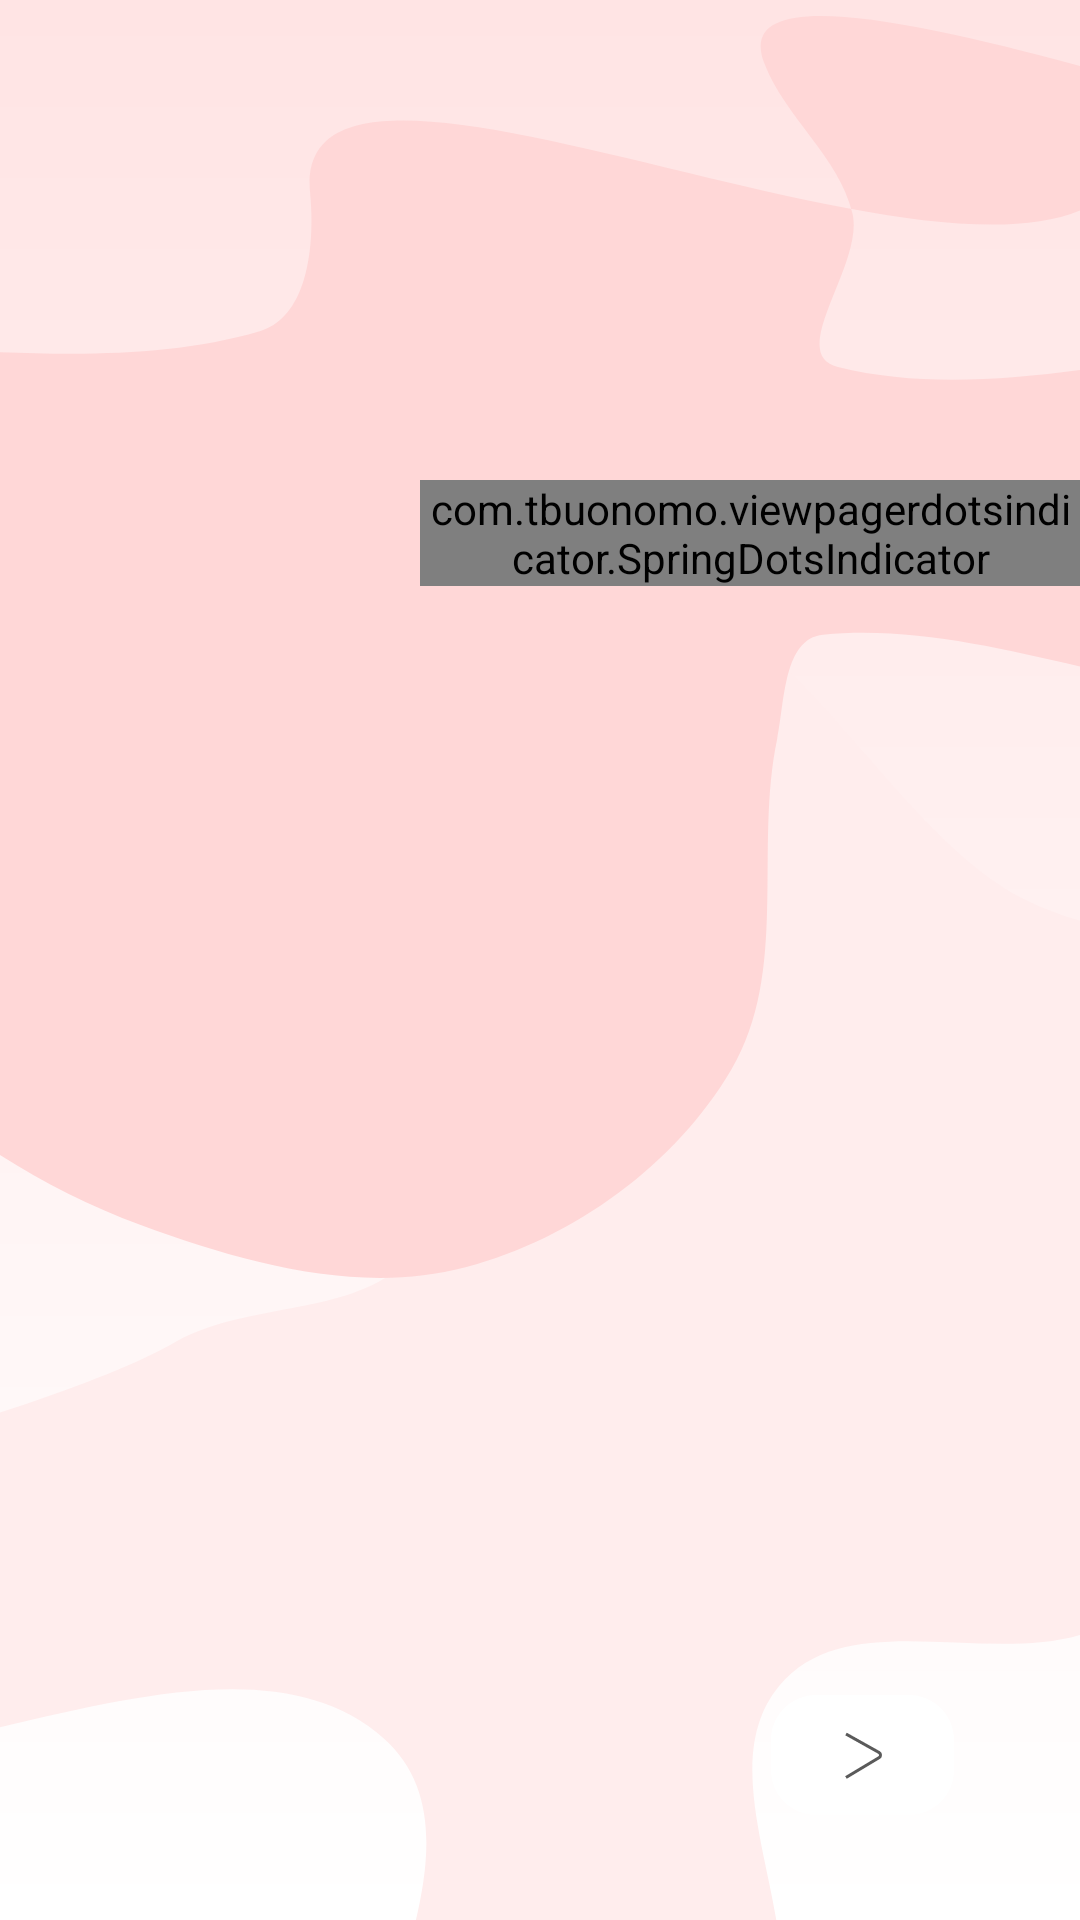

Screen size 1080 × 1920. Icon name, then its center in pixels as [x,y]:
next: [901,1750]
